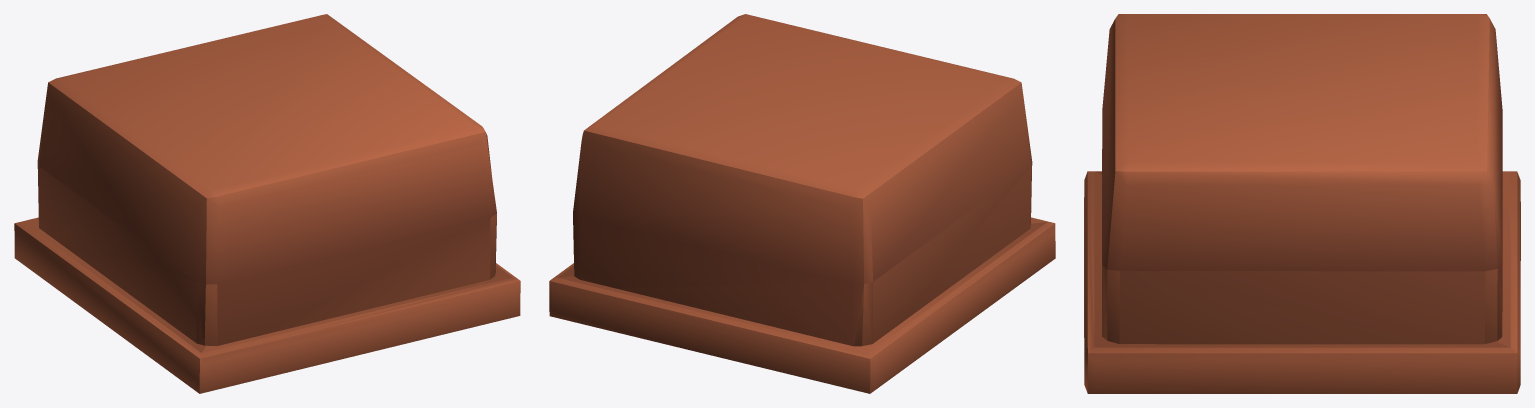
The model's file is mire_planter_lod2.glb.
3 renders of one model, left to right at view 1: azimuth 30°, elevation 25°; view 2: azimuth 150°, elevation 25°; view 3: azimuth 270°, elevation 25°, orthographic. The views are drawn at different scales.
Parts seen in each view (by area): view 1: mire_planter.001; view 2: mire_planter.001; view 3: mire_planter.001.
Boxes of the visible parts, box(x1,y1,x2,y2) form: mire_planter.001: box(14, 14, 520, 393); mire_planter.001: box(549, 14, 1055, 393); mire_planter.001: box(1084, 14, 1520, 393).
Size of the model in its own units: 12.01 by 6.62 by 12.
